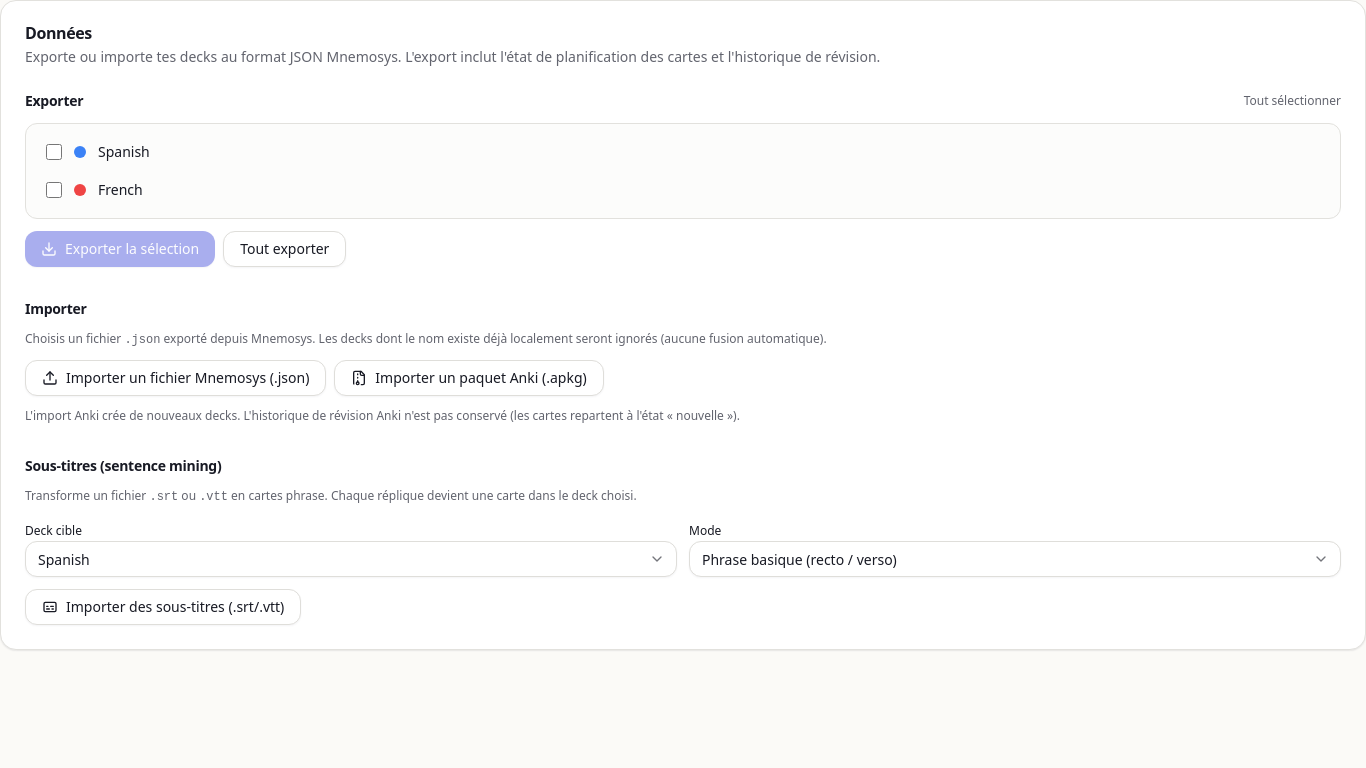
Test: ImportExportSection › disables 'Exporter la sélection' until a deck is checked
This screenshot has width=1366, height=768.
Expected: the button "Exporter la sélection" is disabled, [25,231,215,267]
Click the checkbox labelled "Spanish": (54, 152) [46,144,62,160]
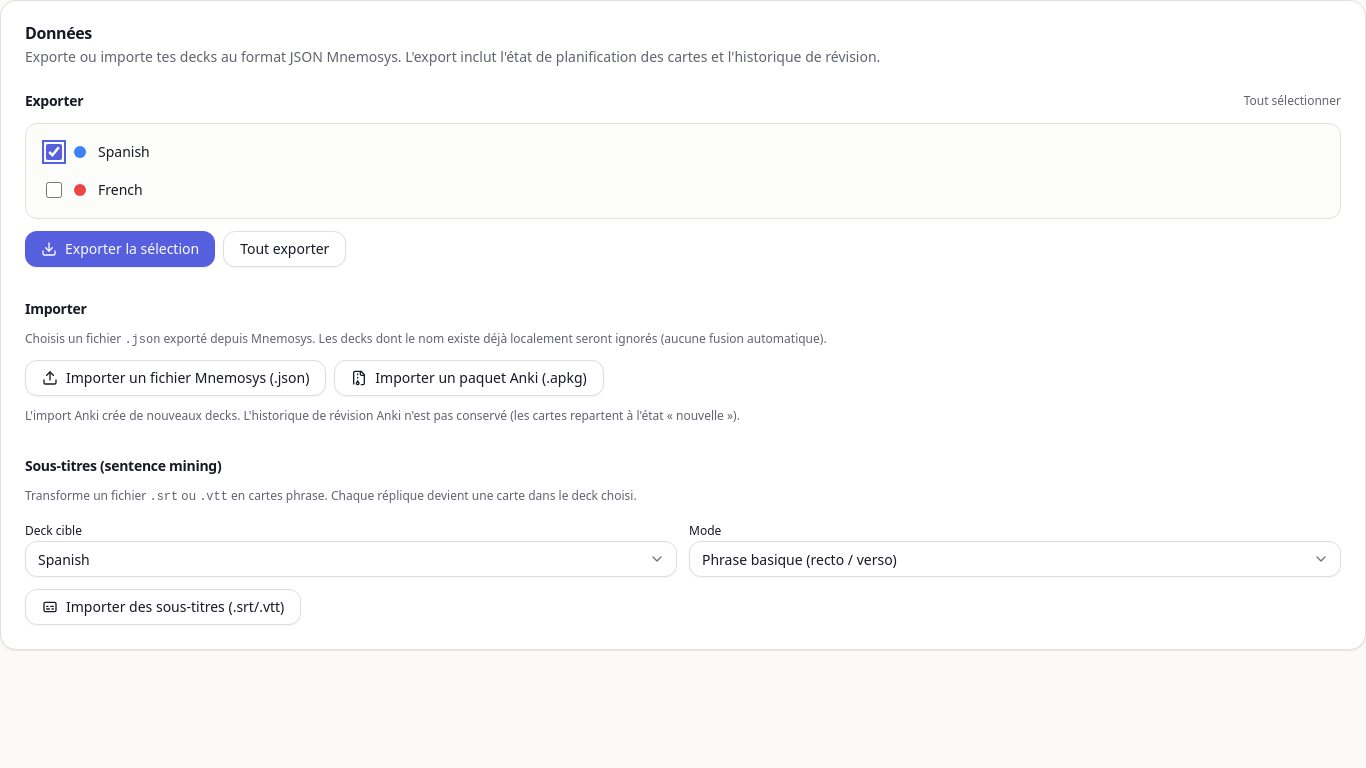
Expected: the button "Exporter la sélection" is enabled, [25,231,215,267]
